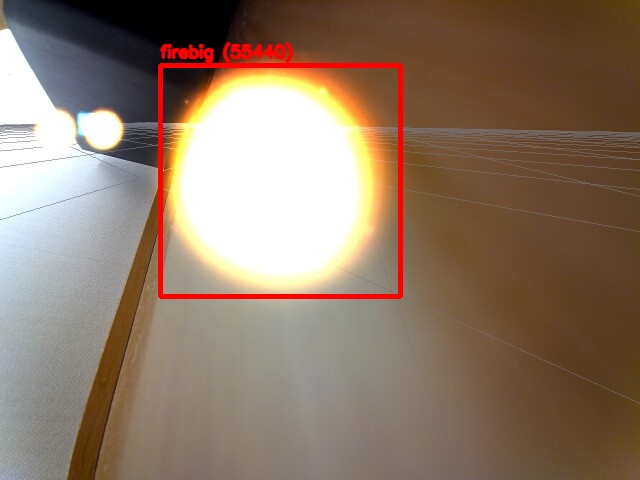firebig: (160, 65, 400, 296)
